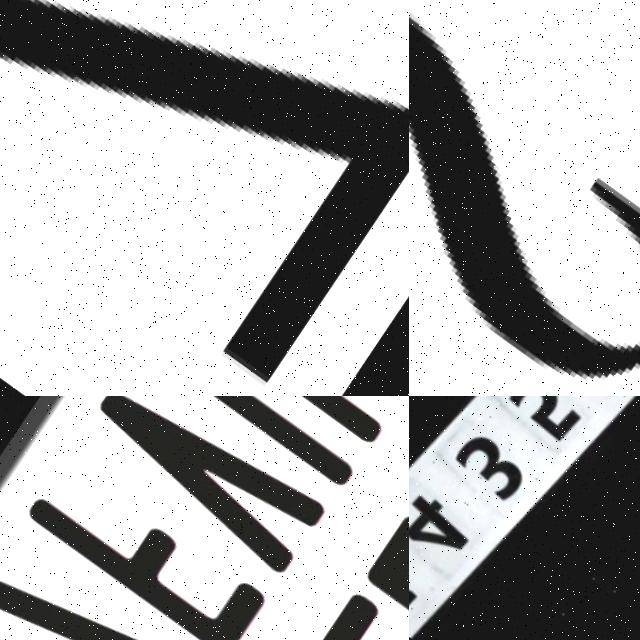3: (423, 418, 540, 524)
4: (409, 473, 488, 589)
5: (475, 396, 597, 466)
7: (0, 0, 409, 396), (0, 527, 209, 640)
F: (13, 452, 265, 640)
S: (409, 0, 640, 396)
U: (125, 396, 383, 490)
V: (65, 396, 327, 576)
